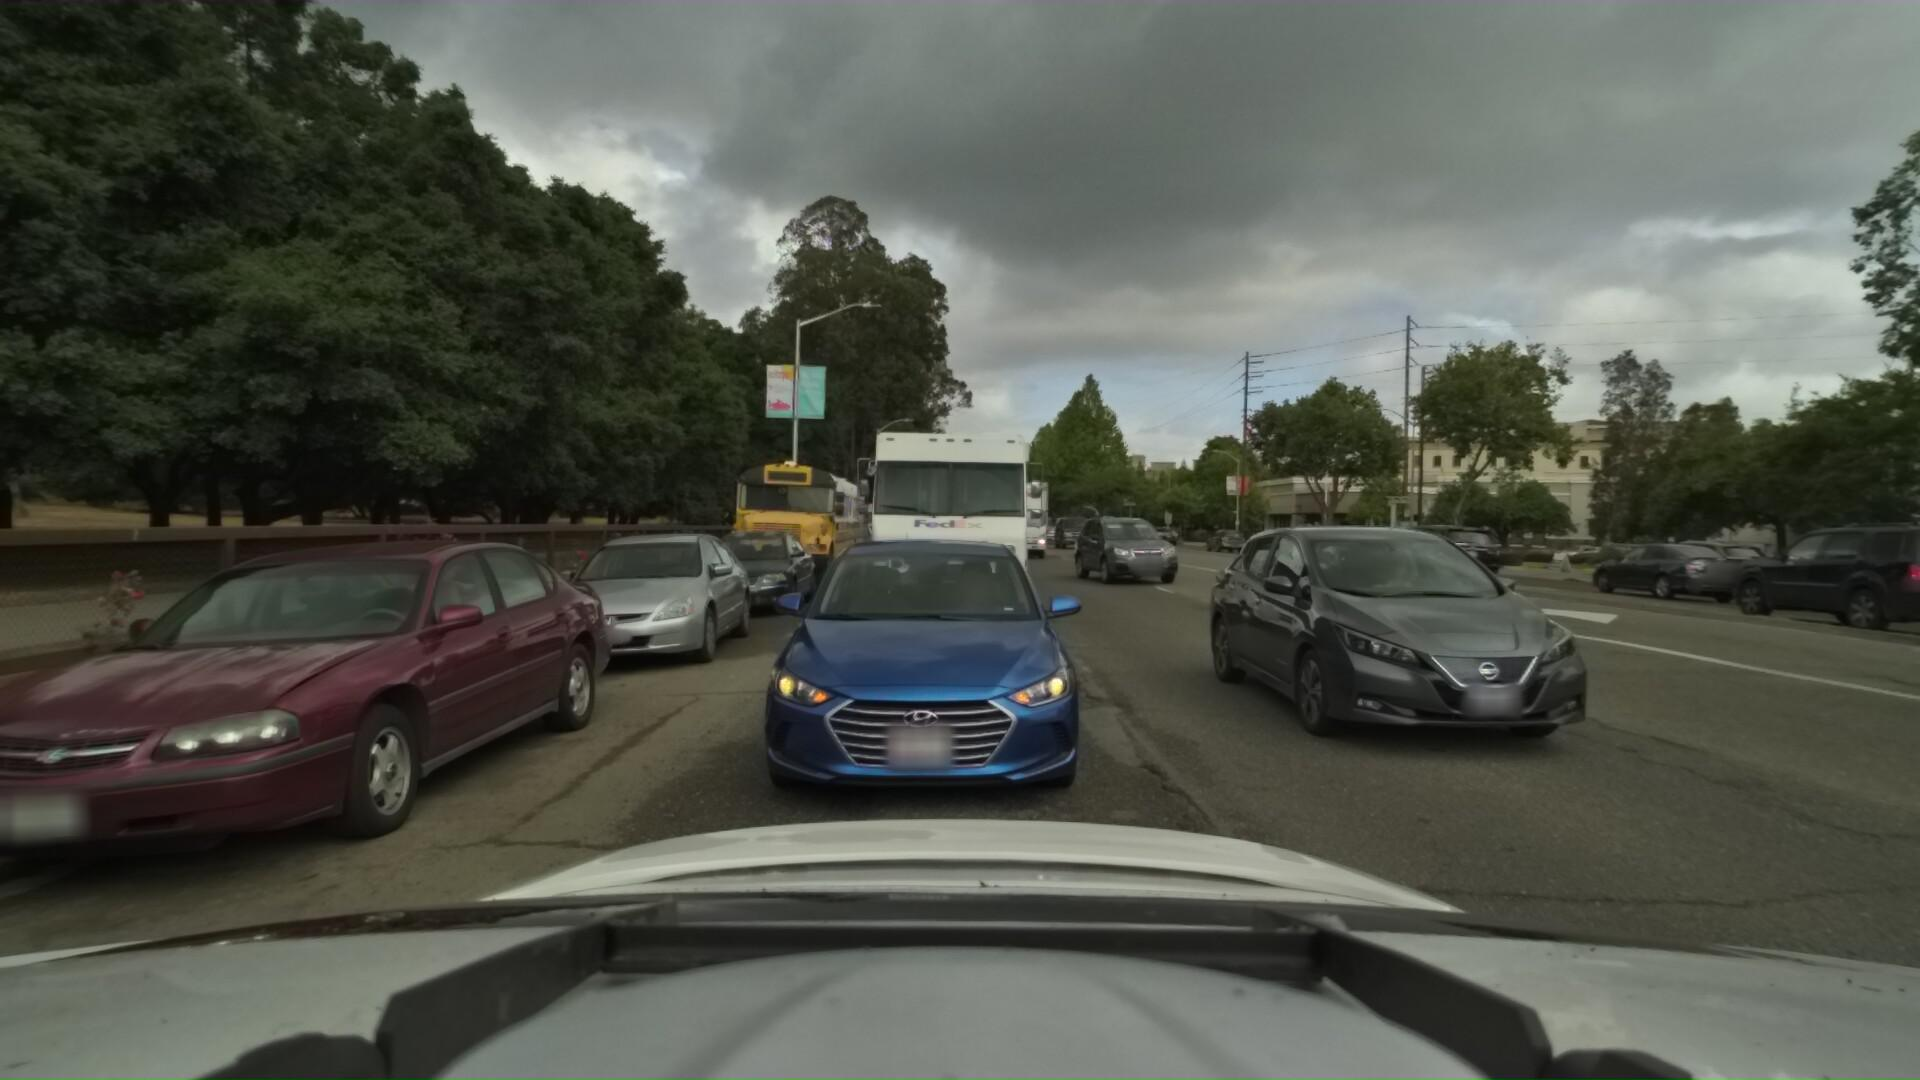bus: (705, 444, 866, 593)
car: (1189, 504, 1636, 770), (719, 524, 1091, 835), (518, 524, 756, 680), (1731, 510, 1920, 647), (1275, 524, 1481, 629), (683, 524, 816, 622), (1596, 537, 1774, 604), (1630, 533, 1788, 595), (1371, 517, 1510, 583), (1063, 510, 1179, 585), (1327, 522, 1418, 567), (814, 517, 877, 564), (1048, 516, 1092, 551), (1199, 522, 1249, 551), (1034, 514, 1071, 545)
other_vehicle: (861, 484, 909, 545)
truck: (851, 397, 1044, 646), (990, 468, 1060, 556)
